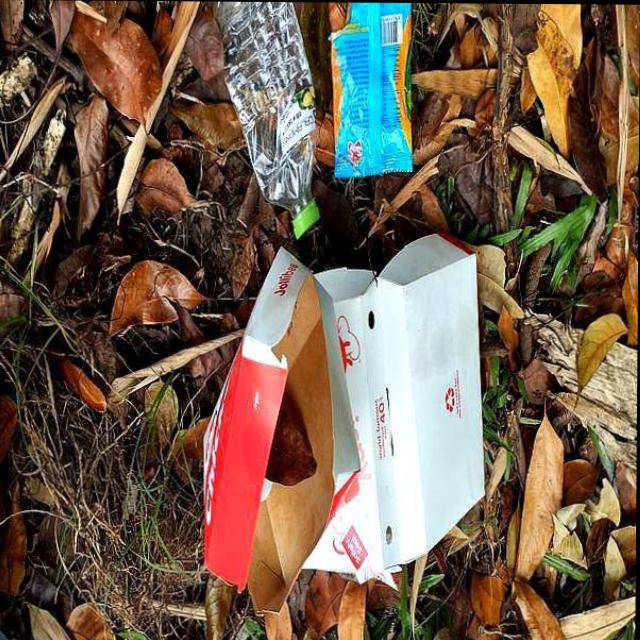Biodegradable: (206, 237, 489, 615)
Non-biodegradable: (212, 2, 322, 239), (329, 3, 415, 178)
